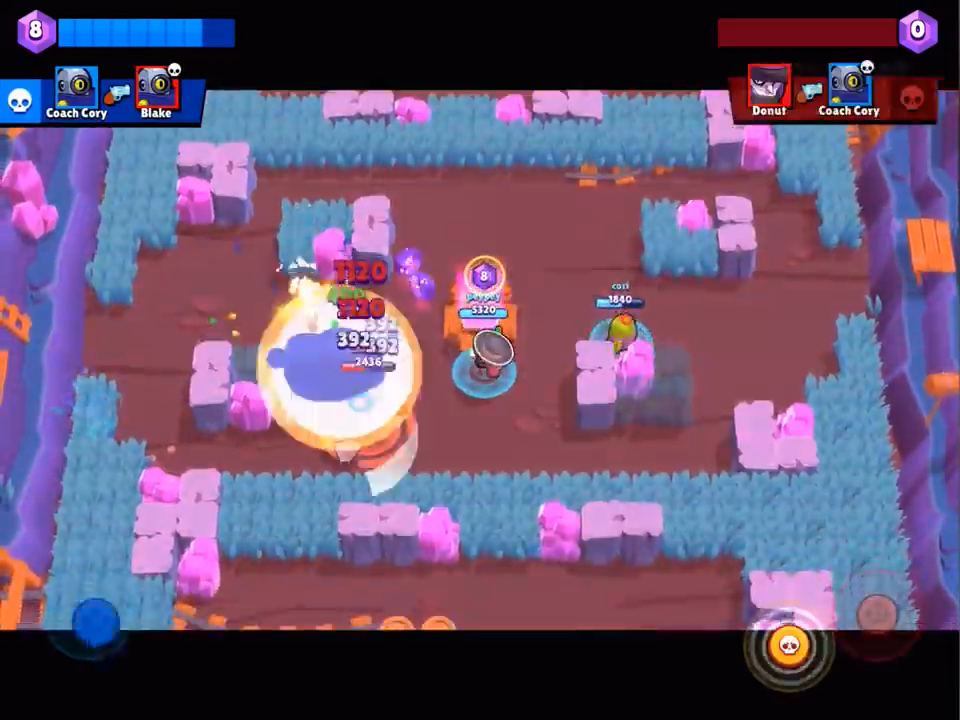move_stick: (79, 601, 115, 642)
red: (338, 361, 423, 452)
